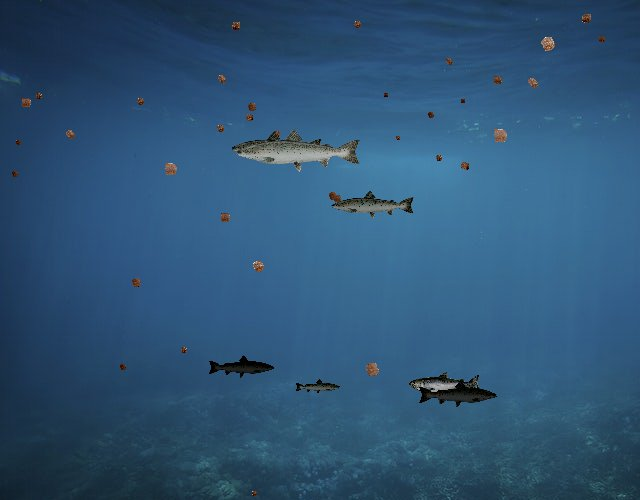Fish: (234, 127, 363, 173), (231, 130, 325, 164), (330, 189, 416, 220), (418, 379, 499, 408), (410, 372, 483, 398), (208, 354, 276, 378), (295, 379, 342, 396)
Pellet: (246, 254, 271, 279), (349, 16, 366, 33), (176, 343, 191, 358), (116, 360, 130, 374), (432, 151, 446, 165), (32, 89, 46, 103), (248, 488, 260, 500)
